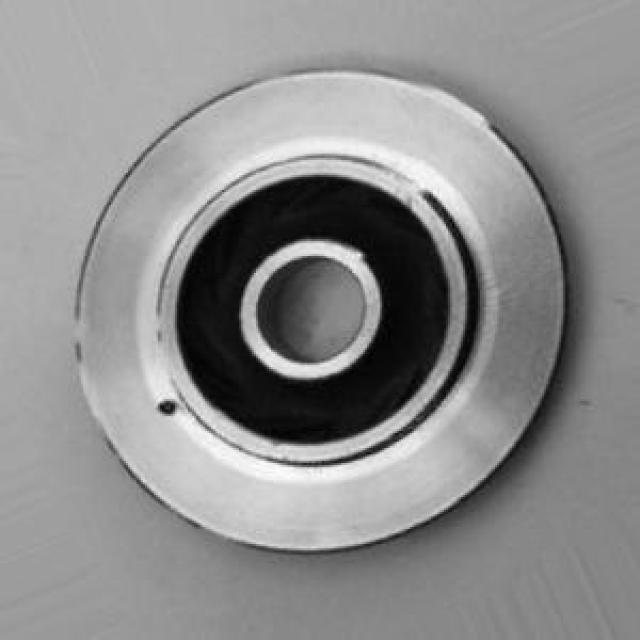Defect: (154, 394, 190, 434)
